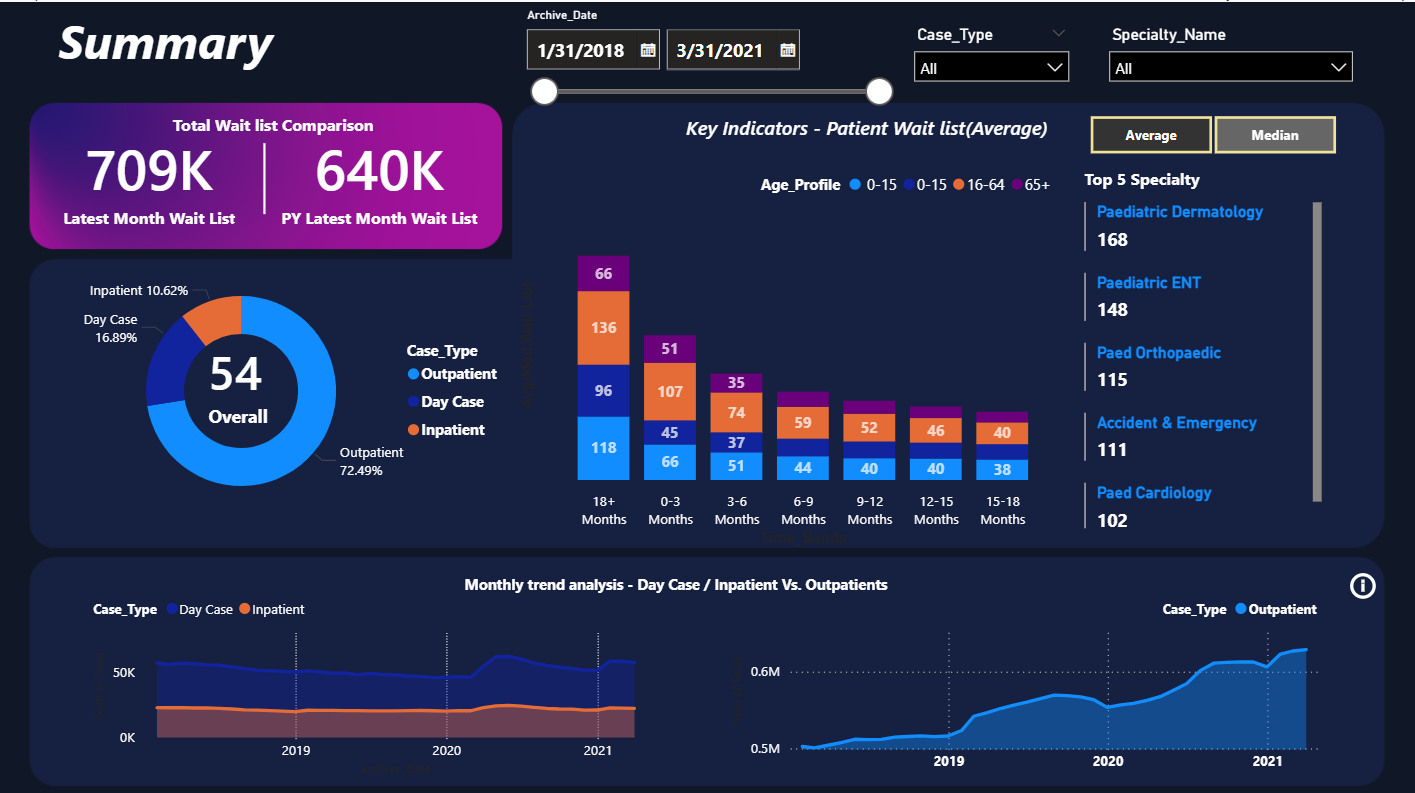

What the dashboard file says about the page in this screenshot:
{"tool":"powerbi","page":{"name":"Summary","canvas":[1280,720],"ordinal":0},"visuals":[{"type":"cardVisual","fields":{"Data":["All_Data.Latest Month Wait List"]},"box":[16,80,240,160],"z":0},{"type":"cardVisual","fields":{"Data":["All_Data.PY Latest Month Wait List"]},"box":[224,80,240,160],"z":1000},{"type":"slicer","fields":{"Values":["Calculation Method.Calc Method"]},"box":[960,96,272,48],"z":2000},{"type":"donutChart","fields":{"Category":["All_Data.Case_Type"],"Y":["All_Data.Average Wait List"]},"box":[64,224,400,256],"z":3000},{"type":"columnChart","fields":{"Y":["All_Data.Avg/Med Wait List"],"Category":["All_Data.Time_Bands"],"Series":["All_Data.Age_Profile"]},"box":[464,144,496,352],"z":4000},{"type":"multiRowCard","fields":{"Values":["All_Data.Avg/Med Wait List","All_Data.Specialty_Name"]},"box":[976,176,224,304],"z":5000},{"type":"cardVisual","fields":{"Data":["All_Data.NoDataLeft"]},"box":[160,576,288,96],"z":6000},{"type":"lineChart","fields":{"Category":["All_Data.Archive_Date"],"Y":["Sum(All_Data.Total)"],"Series":["All_Data.Case_Type"]},"box":[80,528,512,176],"z":7000},{"type":"cardVisual","fields":{"Data":["All_Data.NoDataRight"]},"box":[784,576,272,96],"z":8000},{"type":"lineChart","fields":{"Category":["All_Data.Archive_Date"],"Y":["Sum(All_Data.Total)"],"Series":["All_Data.Case_Type"]},"box":[656,528,544,176],"z":9000},{"type":"slicer","fields":{"Values":["All_Data.Archive_Date"]},"box":[464,0,352,96],"z":10000},{"type":"slicer","fields":{"Values":["All_Data.Case_Type"]},"box":[816,16,160,64],"z":11000},{"type":"slicer","fields":{"Values":["All_Data.Specialty_Name"]},"box":[992,16,240,64],"z":12000},{"type":"textbox","box":[48,0,384,80],"z":13000},{"type":"cardVisual","fields":{"Data":["All_Data.Avg/Med Wait List"]},"box":[160,288,128,112],"z":14000},{"type":"shape","box":[112,128,256,64],"z":15000},{"type":"textbox","box":[112,96,272,32],"z":16000},{"type":"textbox","box":[976,144,160,32],"z":17000},{"type":"cardVisual","fields":{"Data":["All_Data.Dynamic Title"]},"box":[592,80,416,64],"z":18000},{"type":"textbox","box":[416,512,448,32],"z":19000},{"type":"actionButton","box":[1216,512,32,32],"z":20000}]}

Visuals, with their boxes in screenshot pixels (x1, y1, x2, y2), scaled from the page's 1280x720 canvas onto the 1415x793 screenshot:
cardVisual - All_Data.Latest Month Wait List: (left=18, top=88, right=283, bottom=264)
cardVisual - All_Data.PY Latest Month Wait List: (left=248, top=88, right=513, bottom=264)
slicer - Calculation Method.Calc Method: (left=1061, top=106, right=1362, bottom=159)
donutChart - All_Data.Case_Type x All_Data.Average Wait List: (left=71, top=247, right=513, bottom=529)
columnChart - All_Data.Avg/Med Wait List x All_Data.Time_Bands: (left=513, top=159, right=1061, bottom=546)
multiRowCard - All_Data.Avg/Med Wait List x All_Data.Specialty_Name: (left=1079, top=194, right=1327, bottom=529)
cardVisual - All_Data.NoDataLeft: (left=177, top=634, right=495, bottom=740)
lineChart - All_Data.Archive_Date x Sum(All_Data.Total): (left=88, top=582, right=654, bottom=775)
cardVisual - All_Data.NoDataRight: (left=867, top=634, right=1167, bottom=740)
lineChart - All_Data.Archive_Date x Sum(All_Data.Total): (left=725, top=582, right=1327, bottom=775)
slicer - All_Data.Archive_Date: (left=513, top=0, right=902, bottom=106)
slicer - All_Data.Case_Type: (left=902, top=18, right=1079, bottom=88)
slicer - All_Data.Specialty_Name: (left=1097, top=18, right=1362, bottom=88)
textbox: (left=53, top=0, right=478, bottom=88)
cardVisual - All_Data.Avg/Med Wait List: (left=177, top=317, right=318, bottom=441)
shape: (left=124, top=141, right=407, bottom=211)
textbox: (left=124, top=106, right=424, bottom=141)
textbox: (left=1079, top=159, right=1256, bottom=194)
cardVisual - All_Data.Dynamic Title: (left=654, top=88, right=1114, bottom=159)
textbox: (left=460, top=564, right=955, bottom=599)
actionButton: (left=1344, top=564, right=1380, bottom=599)
